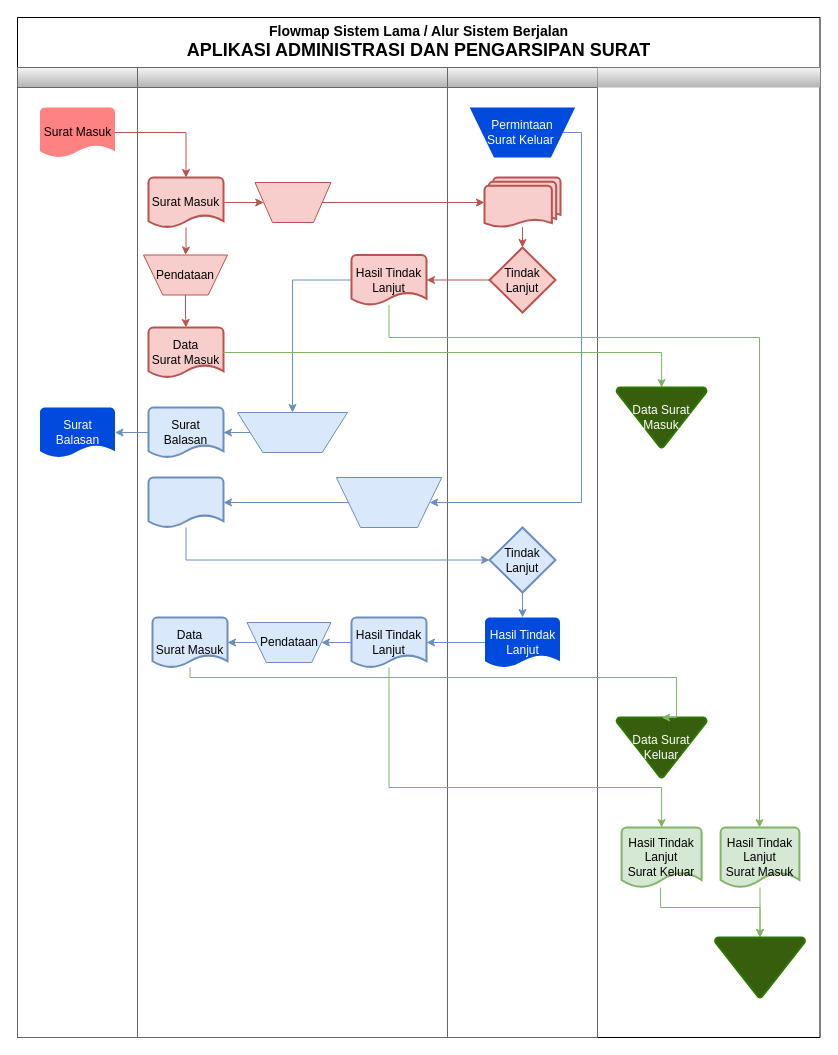
Some shapes in this 838 by 1055 pixel diagram are drawn without their labels. The box of each missing label's shape, as (x1, y1, x2, y2) in pixels:
Arsip Surat: (714, 936, 806, 998)
Disposisi: (254, 182, 331, 222)
Lembaga Luar: (16, 66, 138, 1038)
Pembuatan Surat balasan: (236, 412, 348, 452)
Pembuatan Surat Keluar: (335, 476, 442, 528)
Persuratan TU: (136, 66, 448, 1038)
Sekolah: (446, 66, 598, 1038)
Surat Keluar: (147, 476, 224, 528)
Surat Masuk Disposisi: (483, 176, 561, 228)
Tata Usaha: (597, 67, 820, 1037)
